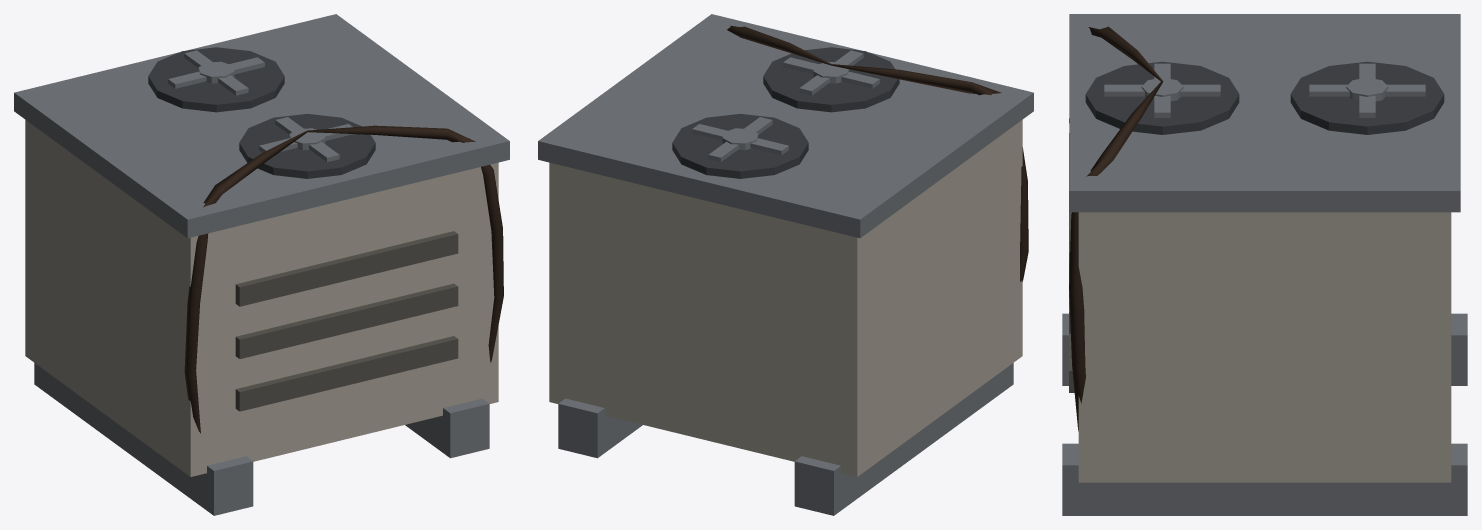
Rendered from prop-rooftop-hvac-infested-1.glb.
3 renders of one model, left to right at view 1: azimuth 30°, elevation 25°; view 2: azimuth 150°, elevation 25°; view 3: azimuth 270°, elevation 25°, orthographic. The views are drawn at different scales.
Visible parts, largest first — view 1: equipment-body, top-panel, host_growth, support-rail, intake-louvre, intake-louvre.002, intake-louvre.001, fan-well.001, fan-well, support-rail.001, fan-blade.002, fan-blade.003 (+2 smaller); view 2: equipment-body, top-panel, support-rail, fan-well.001, fan-well, host_growth, support-rail.001, fan-blade, fan-blade.002, fan-blade.003, fan-blade.001, fan-hub.001; view 3: equipment-body, top-panel, support-rail.001, fan-well.001, fan-well, host_growth, support-rail, fan-blade.001, fan-blade.003, fan-hub.001, fan-hub, fan-blade.002 (+1 smaller).
Part boxes in pixels (x1,y1,x2,y2): equipment-body: (25,120,498,476); top-panel: (14,14,509,238); host_growth: (184,125,503,433); support-rail: (34,363,253,515); intake-louvre: (235,336,458,411); intake-louvre.002: (235,231,458,306); intake-louvre.001: (235,283,458,358); fan-well.001: (148,47,284,112); fan-well: (239,114,375,178); support-rail.001: (405,398,489,458); fan-blade.002: (168,57,264,88); fan-blade.003: (184,50,248,95); equipment-body: (549,120,1022,476); top-panel: (538,14,1033,238); support-rail: (794,363,1013,515); fan-well.001: (672,114,808,178); fan-well: (763,47,899,112); host_growth: (727,25,1028,281); support-rail.001: (558,398,642,458); fan-blade: (783,57,879,88); fan-blade.002: (692,124,788,155); fan-blade.003: (708,117,772,162); fan-blade.001: (799,50,863,95); fan-hub.001: (722,128,758,150); equipment-body: (1078,212,1451,482); top-panel: (1069,14,1460,212); support-rail.001: (1062,443,1467,515); fan-well.001: (1290,61,1444,134); fan-well: (1085,61,1239,134); host_growth: (1069,26,1163,431); support-rail: (1062,313,1467,385); fan-blade.001: (1104,84,1220,96); fan-blade.003: (1309,84,1425,96); fan-hub.001: (1346,77,1388,101); fan-hub: (1141,77,1183,101); fan-blade.002: (1359,63,1375,117).
Bounding box in the file's own units: 0.9 × 0.8519 × 0.87.
